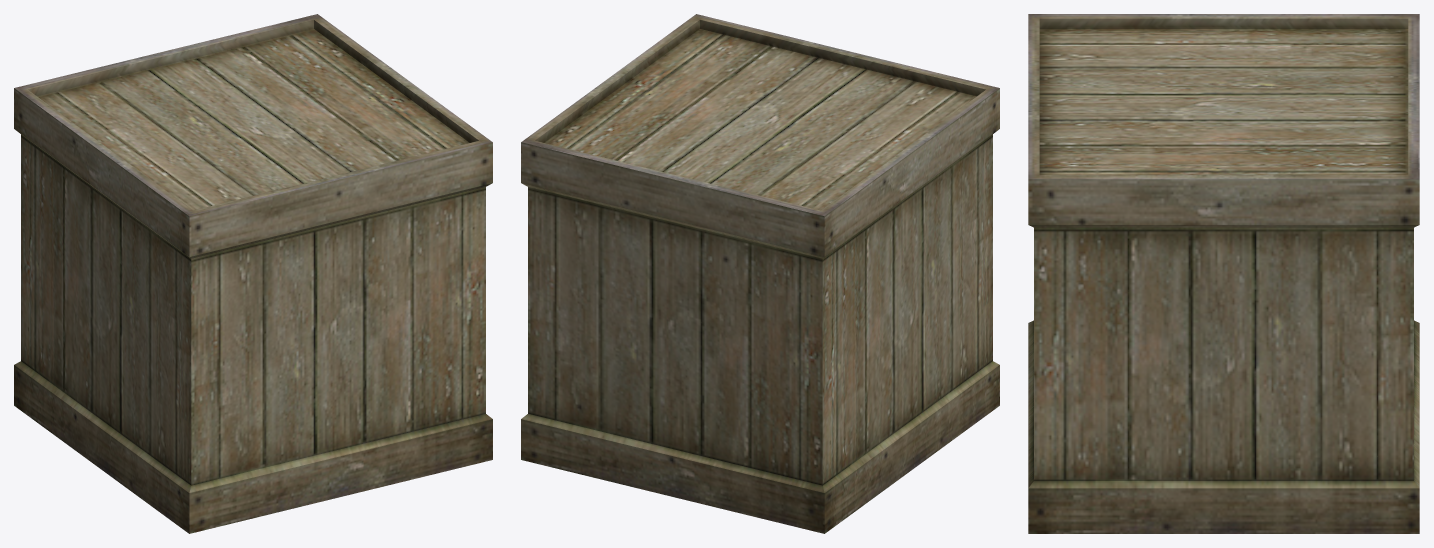
The model's file is Crate.dae.
3 renders of one model, left to right at view 1: azimuth 30°, elevation 25°; view 2: azimuth 150°, elevation 25°; view 3: azimuth 270°, elevation 25°, orthographic. The views are drawn at different scales.
Parts seen in each view (by area): view 1: SquareBox01; view 2: SquareBox01; view 3: SquareBox01.
Part boxes in pixels (x1,y1,x2,y2): SquareBox01: [14, 14, 492, 533]; SquareBox01: [521, 14, 999, 533]; SquareBox01: [1028, 14, 1419, 533].
Size of the model in its own units: 27.56 by 27.56 by 27.56.
Materials: 1 (1 with a texture image).
